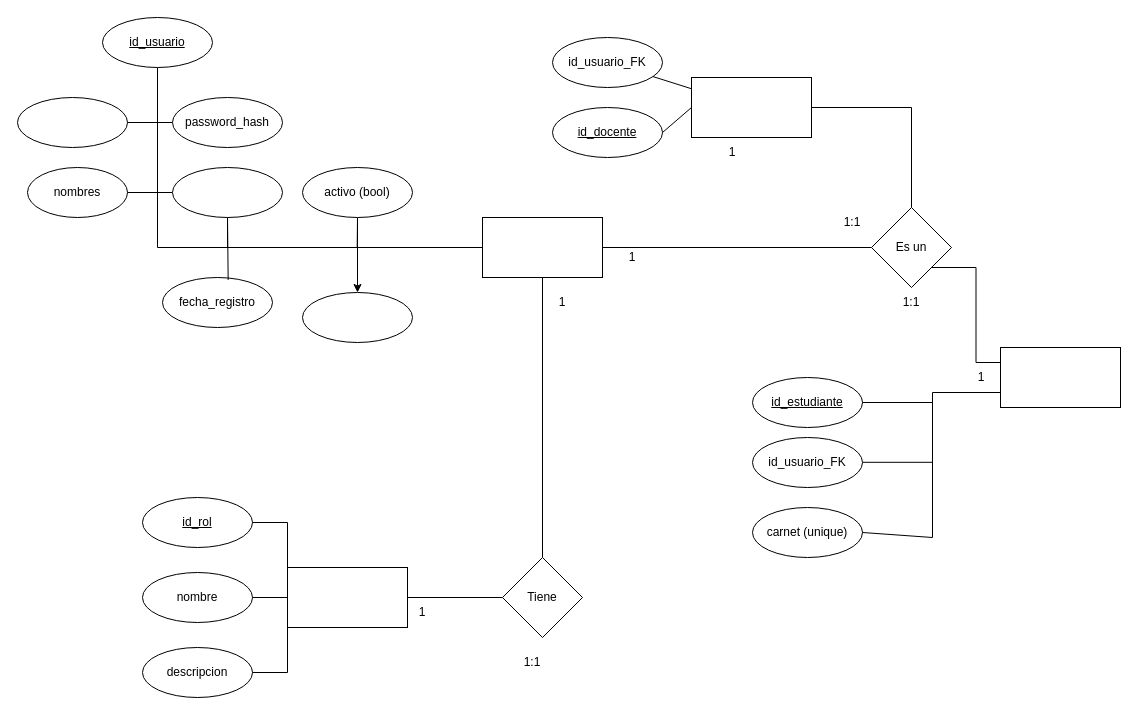
This 1138x715 diagram has some shape labels left out. The centre of each missing label's shape, as x and y in pixels:
"apellidos" goes at (x=227, y=192).
"Docente" goes at (x=751, y=107).
"email" goes at (x=72, y=122).
"Estudiante" goes at (x=1060, y=377).
"id_rol_FK" goes at (x=357, y=317).
"Rol" goes at (x=347, y=597).
"Usuario" goes at (x=542, y=247).
